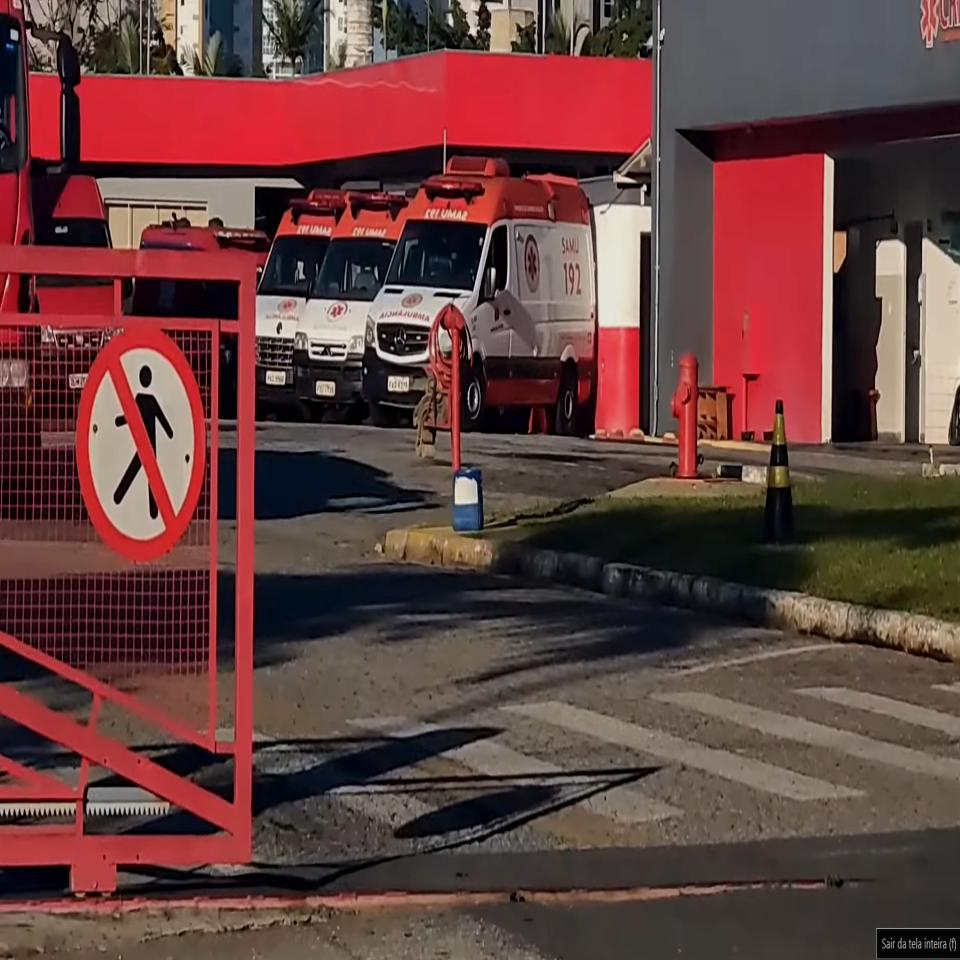ambulancia: (366, 154, 597, 436), (294, 189, 412, 417), (248, 191, 342, 413)
